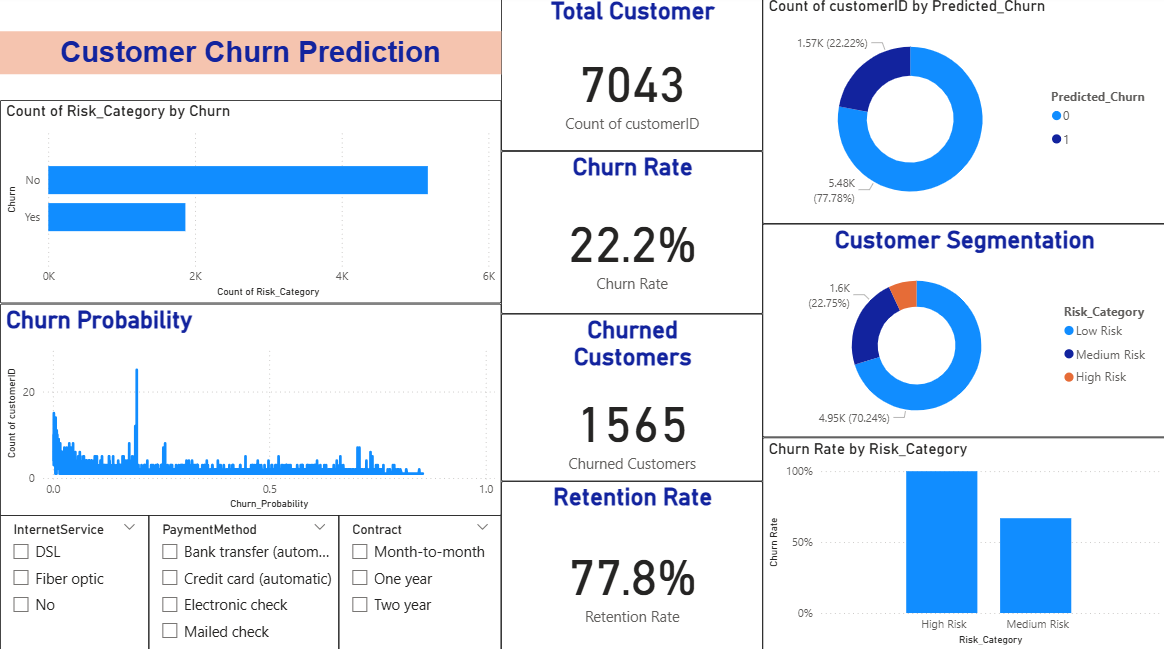

This screenshot's page, from the dashboard's own definition file:
{"tool":"powerbi","page":{"name":"Page 1","canvas":[1280,720],"ordinal":0},"visuals":[{"type":"card","title":"Total Customer","fields":{"Values":["CountNonNull(customer_churn churn_predictions.customerID)"]},"box":[550,0,287.1,171.4],"z":0},{"type":"card","title":"Churned Customers","fields":{"Values":["customer_churn churn_predictions.Churned Customers"]},"box":[550,350,287.1,184.3],"z":1000},{"type":"card","title":"Churn Rate","fields":{"Values":["customer_churn churn_predictions.Churn Rate"]},"box":[550,171.4,287.1,178.6],"z":2000},{"type":"donutChart","fields":{"Category":["customer_churn churn_predictions.Predicted_Churn"],"Y":["CountNonNull(customer_churn churn_predictions.customerID)"]},"box":[837.1,0,442.9,251.4],"z":3000},{"type":"donutChart","title":"Customer Segmentation","fields":{"Category":["customer_churn churn_predictions.Risk_Category"],"Y":["CountNonNull(customer_churn churn_predictions.customerID)"]},"box":[837.1,251.4,442.9,234.3],"z":4000},{"type":"lineStackedColumnComboChart","fields":{"Y":["customer_churn churn_predictions.Churn Rate"],"Category":["customer_churn churn_predictions.Risk_Category"]},"box":[837.1,485.7,442.9,234.3],"z":5000},{"type":"lineChart","title":"Churn Probability","fields":{"Category":["customer_churn churn_predictions.Churn_Probability"],"Y":["CountNonNull(customer_churn churn_predictions.customerID)"]},"box":[0,338.6,550,232.9],"z":6000},{"type":"textbox","box":[0,40,550,47.1],"z":7000},{"type":"slicer","title":"Contract","fields":{"Values":["customer_churn churn_predictions.Contract"]},"box":[371.4,571.4,178.6,148.6],"z":8000},{"type":"slicer","fields":{"Values":["customer_churn churn_predictions.InternetService"]},"box":[0,571.4,162.9,148.6],"z":9000},{"type":"slicer","fields":{"Values":["customer_churn churn_predictions.PaymentMethod"]},"box":[162.9,571.4,208.6,148.6],"z":10000},{"type":"card","title":"Retention Rate","fields":{"Values":["customer_churn churn_predictions.Retention Rate"]},"box":[550,534.3,287.1,185.7],"z":11000},{"type":"barChart","fields":{"Y":["CountNonNull(customer_churn churn_predictions.Risk_Category)"],"Category":["customer_churn churn_predictions.Churn"]},"box":[0,115.7,550,222.9],"z":11001}]}

Visuals, with their boxes in screenshot pixels (x1, y1, x2, y2), scaled from the page's 1280x720 canvas onto the 1164x649 screenshot:
"Total Customer" card: bbox=[500, 0, 761, 154]
"Churned Customers" card: bbox=[500, 315, 761, 482]
"Churn Rate" card: bbox=[500, 154, 761, 315]
donutChart - customer_churn churn_predictions.Predicted_Churn x CountNonNull(customer_churn churn_predictions.customerID): bbox=[761, 0, 1163, 227]
"Customer Segmentation" donutChart: bbox=[761, 227, 1163, 438]
lineStackedColumnComboChart - customer_churn churn_predictions.Churn Rate x customer_churn churn_predictions.Risk_Category: bbox=[761, 438, 1163, 648]
"Churn Probability" lineChart: bbox=[0, 305, 500, 515]
textbox: bbox=[0, 36, 500, 79]
"Contract" slicer: bbox=[338, 515, 500, 648]
slicer - customer_churn churn_predictions.InternetService: bbox=[0, 515, 148, 648]
slicer - customer_churn churn_predictions.PaymentMethod: bbox=[148, 515, 338, 648]
"Retention Rate" card: bbox=[500, 482, 761, 648]
barChart - CountNonNull(customer_churn churn_predictions.Risk_Category) x customer_churn churn_predictions.Churn: bbox=[0, 104, 500, 305]
